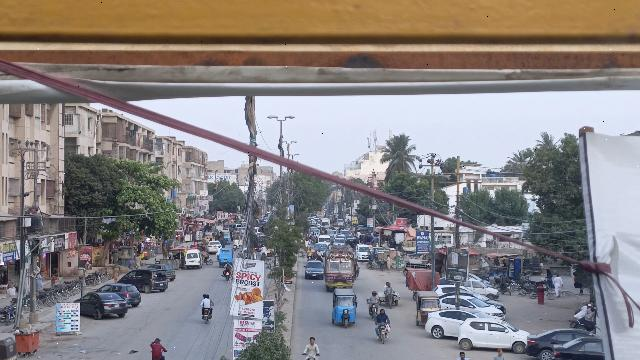Bike: (374, 322, 388, 346), (368, 302, 381, 321), (201, 308, 212, 326), (223, 270, 232, 283)
Bus: (324, 245, 359, 290)
Car: (459, 316, 528, 353), (525, 329, 590, 356), (425, 304, 475, 338), (441, 294, 504, 318), (74, 292, 129, 319), (550, 336, 607, 360), (121, 267, 169, 293), (97, 283, 143, 305), (303, 260, 324, 279)
Cart: (376, 281, 402, 307)
Person: (149, 336, 167, 357), (303, 335, 321, 354), (374, 307, 389, 324), (199, 293, 214, 308), (385, 281, 394, 299), (368, 290, 380, 303), (224, 260, 233, 271)
Rickshaw: (331, 288, 359, 329), (413, 289, 442, 327)
